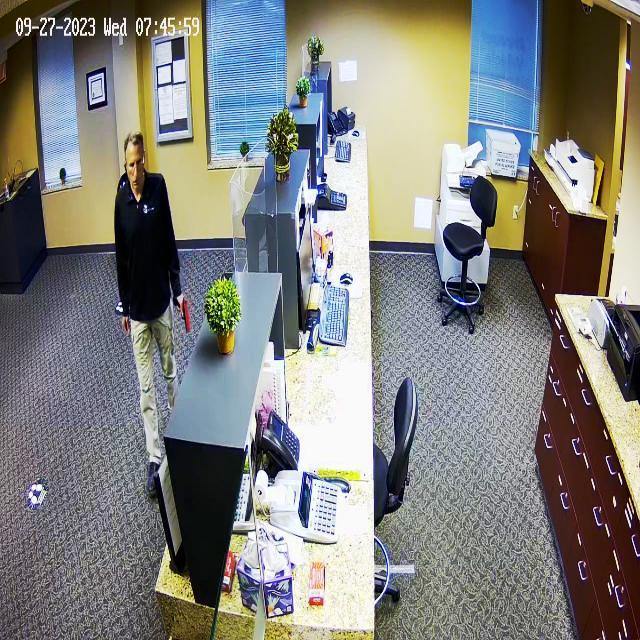Gun: (163, 288, 196, 339)
